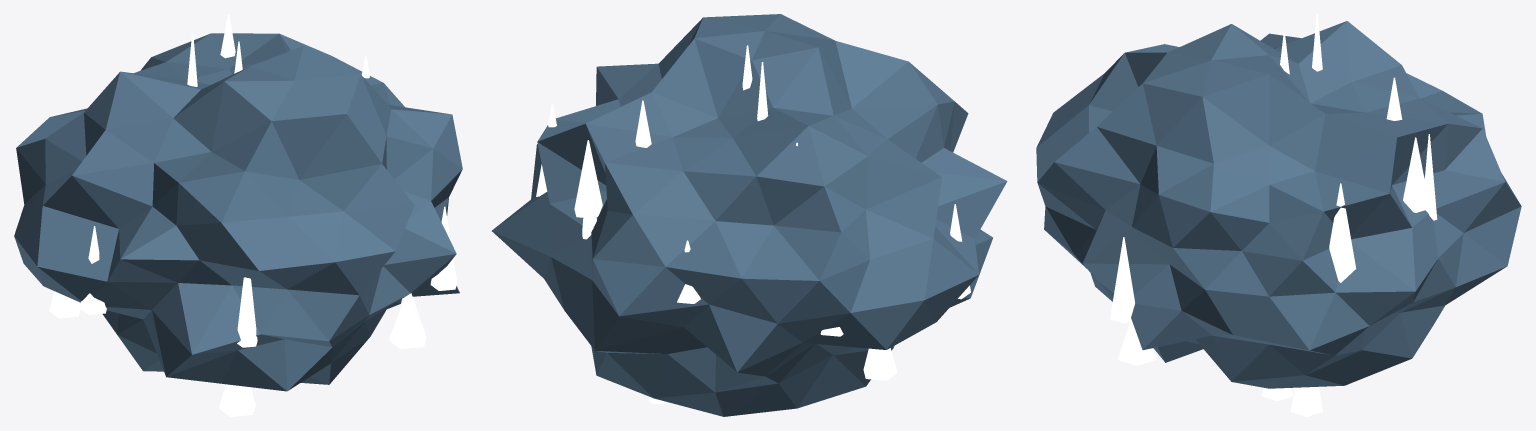
Rendered from ore_mirror_crystal.glb.
The picture shows the model from 3 angles, left to right: view 1: azimuth 30°, elevation 25°; view 2: azimuth 150°, elevation 25°; view 3: azimuth 270°, elevation 25°; orthographic projection. The views are drawn at different scales.
Visible parts, largest first — view 1: council_dark.007, ore_mirror_crystal_vein; view 2: council_dark.007, ore_mirror_crystal_vein; view 3: council_dark.007, ore_mirror_crystal_vein.
Part boxes in pixels (bbox=[...]): council_dark.007: bbox=[14, 33, 462, 391]; ore_mirror_crystal_vein: bbox=[49, 14, 457, 416]; council_dark.007: bbox=[492, 14, 1007, 416]; ore_mirror_crystal_vein: bbox=[536, 45, 970, 404]; council_dark.007: bbox=[1036, 21, 1521, 388]; ore_mirror_crystal_vein: bbox=[1110, 14, 1437, 416].
Size of the model in its own units: 49.4 by 38.99 by 49.45.
